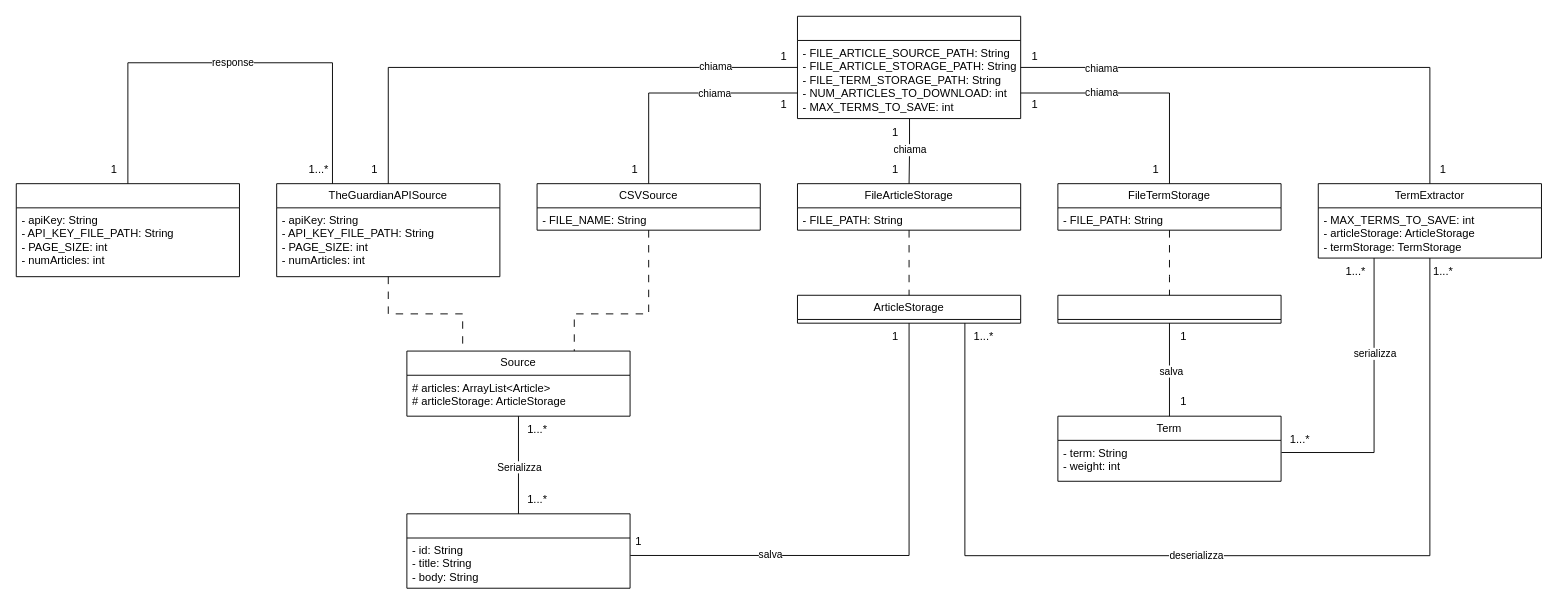
Image size: 1558x607. Some labels were removed from this diagram. Each missing label, with the box of its shape:
App: (797, 15, 1021, 119)
Article: (406, 513, 630, 588)
GuardianContentAPI: (15, 183, 239, 277)
TermStorage: (1057, 294, 1281, 323)
